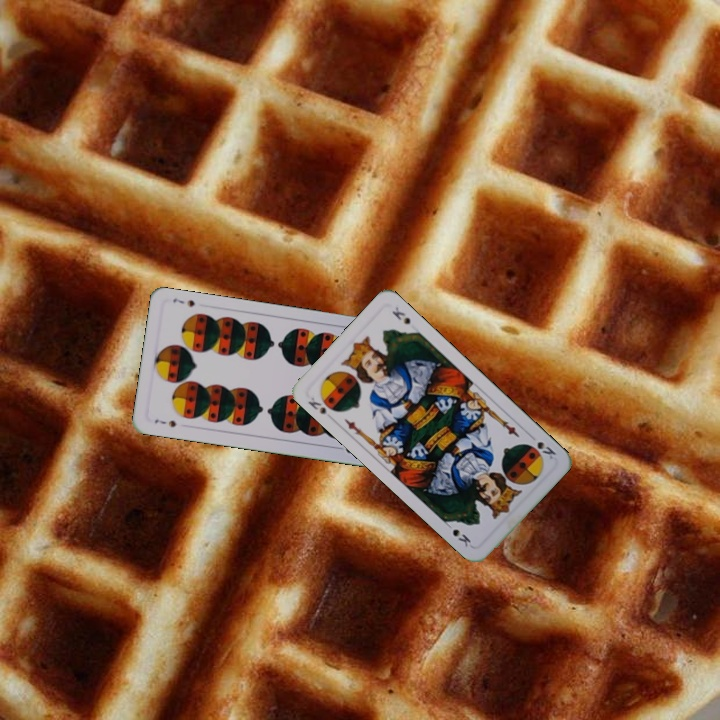S7: (151, 415, 179, 430)
SK: (533, 437, 559, 462), (304, 393, 329, 417)
